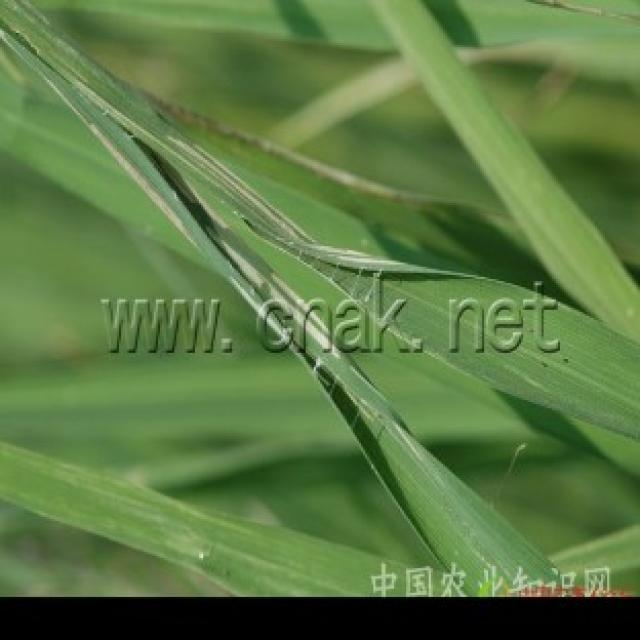rice leaf roller: (159, 132, 329, 256)
